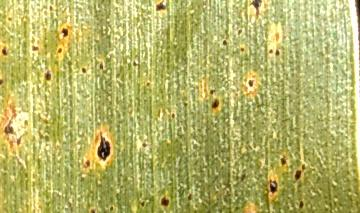tarspot: (95, 129, 111, 164), (2, 122, 18, 136), (250, 1, 263, 17), (151, 1, 169, 12), (158, 194, 171, 209), (266, 179, 279, 193), (59, 26, 72, 39), (291, 168, 303, 181), (208, 98, 221, 109), (296, 198, 307, 211), (42, 70, 54, 81), (207, 86, 219, 97), (1, 45, 11, 58), (246, 77, 256, 90), (219, 37, 230, 48), (30, 43, 41, 54), (96, 60, 106, 72), (237, 44, 247, 56), (279, 155, 289, 166), (129, 59, 140, 69), (140, 140, 150, 150), (234, 27, 244, 37), (185, 191, 194, 202), (274, 47, 282, 59), (80, 65, 88, 76), (169, 111, 177, 122), (138, 200, 148, 208), (268, 46, 274, 58), (55, 46, 63, 55), (143, 80, 152, 88), (182, 100, 190, 109), (87, 208, 99, 213), (1, 75, 5, 88)
